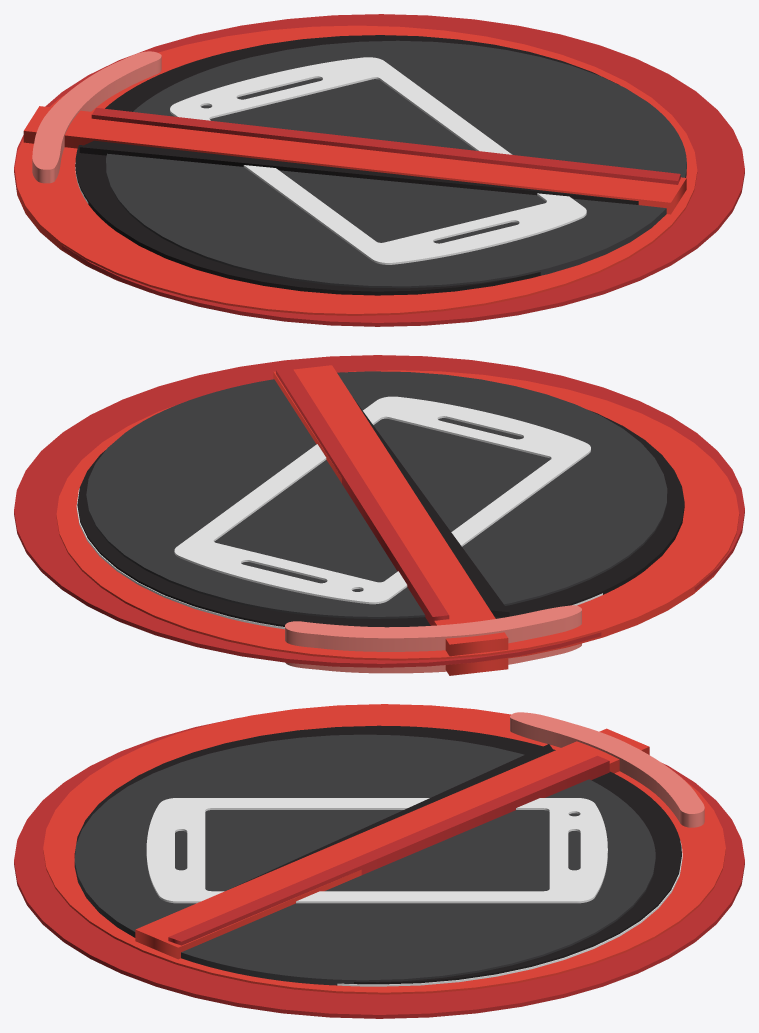
File: emoji_u1f4f5.glb
3 renders of one model, top to bottom at view 1: azimuth 30°, elevation 25°; view 2: azimuth 150°, elevation 25°; view 3: azimuth 270°, elevation 25°, orthographic.
Parts seen in each view (by area): view 1: emoji_u1f4f5; view 2: emoji_u1f4f5; view 3: emoji_u1f4f5.
Boxes of the visible parts, box(x1,y1,x2,y2) form: emoji_u1f4f5: box(14, 14, 744, 326); emoji_u1f4f5: box(14, 355, 744, 675); emoji_u1f4f5: box(14, 704, 744, 1018).
Size of the model in its own units: 0.0339 by 0.002 by 0.0339.
